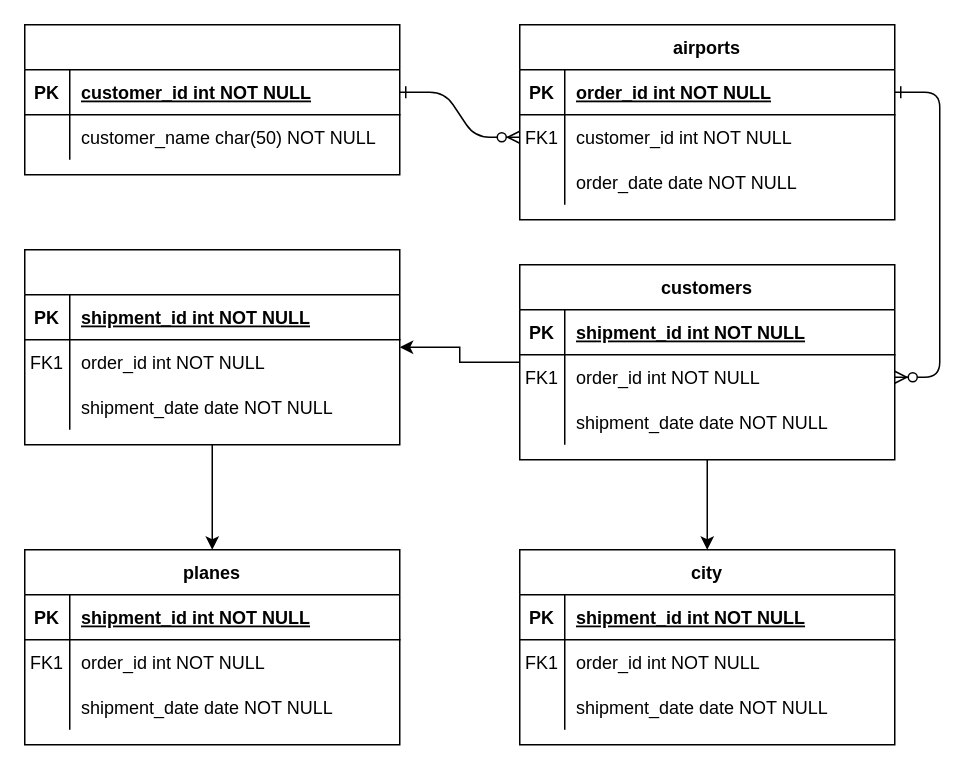
The diagram is 965 pixels wide and 770 high, and some of its shapes have lost their labels. The shapes that lost their labels are listed below. From the top down, each one's box as (x1, y1, x2, y2) in pixels, then its label:
(23, 23, 400, 175): flights
(23, 248, 400, 445): reservations
